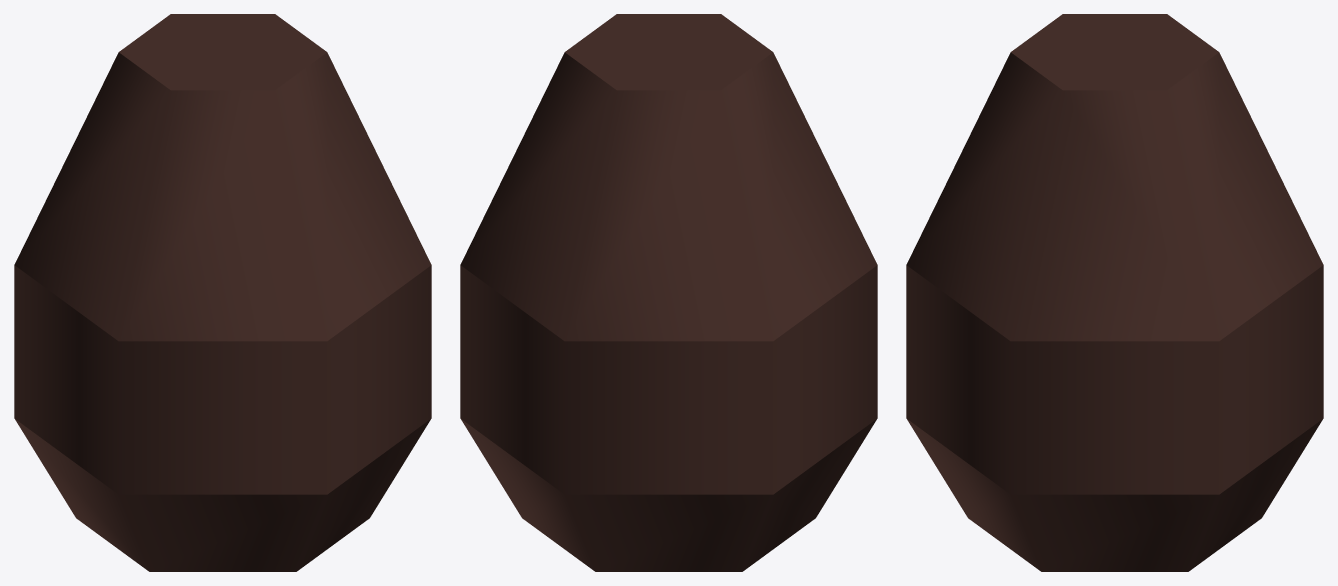
The model's file is avocado.GLB.
The picture shows the model from 3 angles, left to right: view 1: azimuth 30°, elevation 25°; view 2: azimuth 150°, elevation 25°; view 3: azimuth 270°, elevation 25°; orthographic projection.
Parts seen in each view (by area): view 1: avocado; view 2: avocado; view 3: avocado.
Part boxes in pixels (bbox=[...]): avocado: bbox=[14, 14, 431, 571]; avocado: bbox=[460, 14, 877, 571]; avocado: bbox=[906, 14, 1323, 571].
Size of the model in its own units: 0.1502 by 0.2137 by 0.1734.
